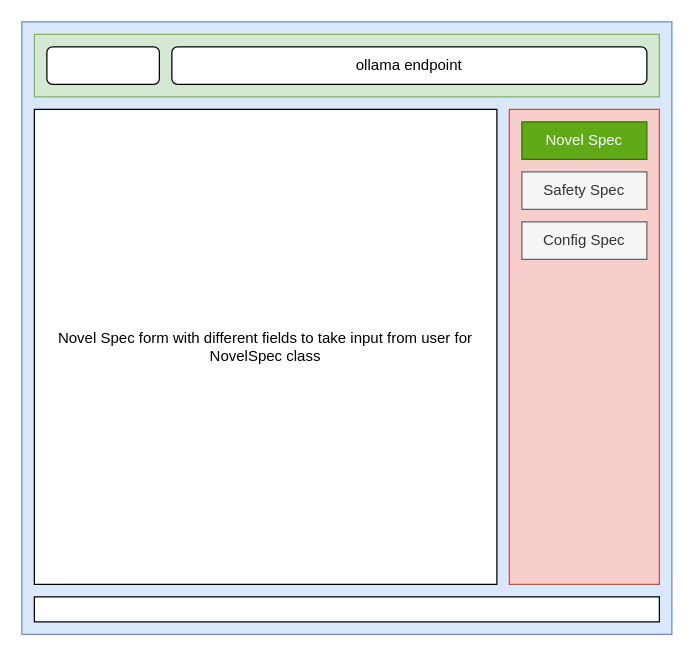
This 694x656 diagram has some shape labels left out. The centre of each missing label's shape, as x and y in pixels:
"ModelName" belongs at (x=102, y=65).
"progress bar" belongs at (x=346, y=609).
